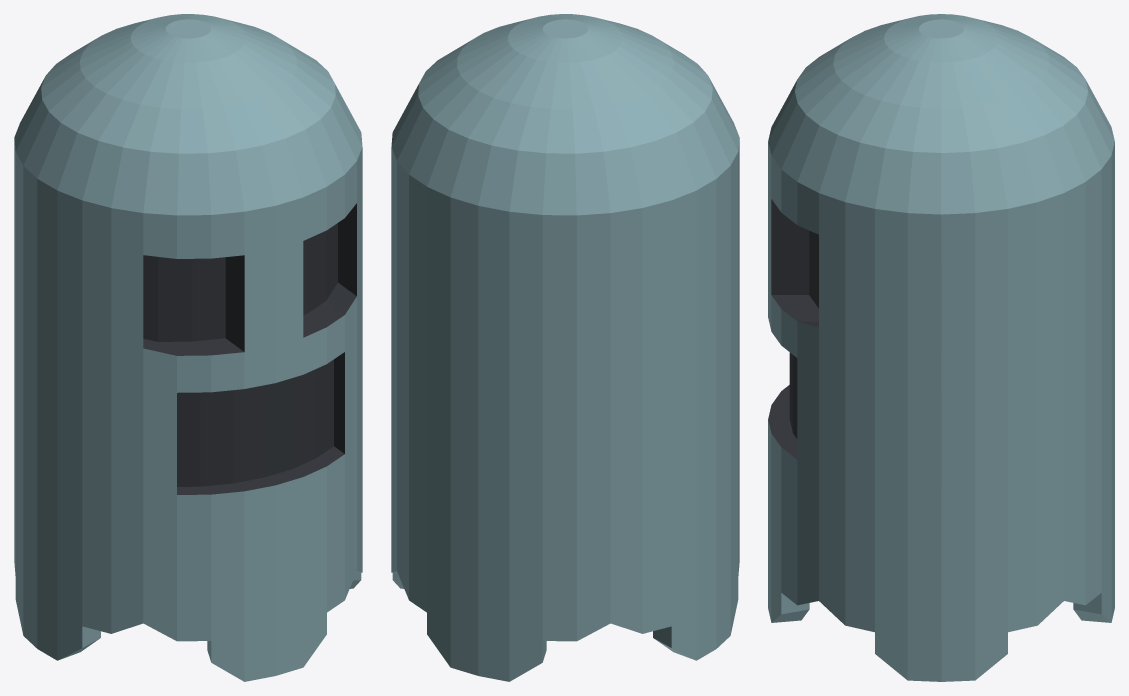
File: ghost.fbx
3 views of the same model, side by side, from view 1: azimuth 30°, elevation 25°; view 2: azimuth 150°, elevation 25°; view 3: azimuth 270°, elevation 25° (orthographic).
Parts seen in each view (by area): view 1: Ghost; view 2: Ghost; view 3: Ghost.
Boxes of the visible parts, x1,y1,x2,y2 form: Ghost: (14,14,362,681); Ghost: (391,14,739,681); Ghost: (768,14,1114,681).
Size of the model in its own units: 282 by 520 by 282.
